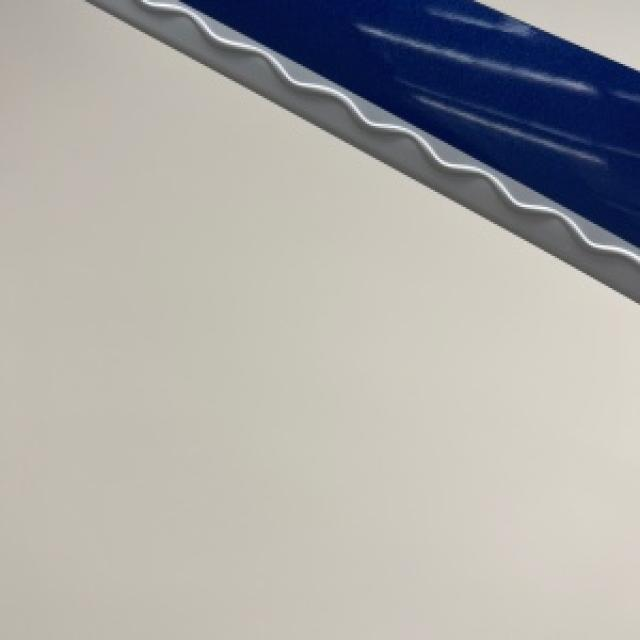healthy: (90, 0, 638, 299)
